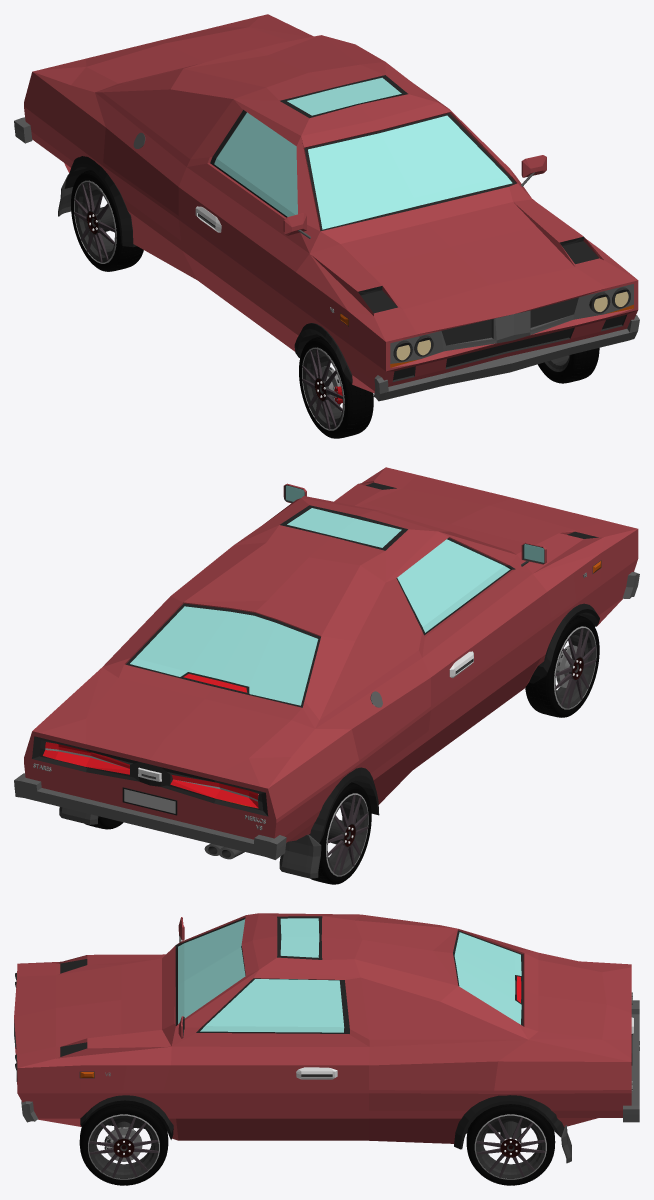
File: frigorifico-americano-hisense.glb
3 renders of one model, top to bottom at view 1: azimuth 30°, elevation 25°; view 2: azimuth 150°, elevation 25°; view 3: azimuth 270°, elevation 25°, orthographic. The views are drawn at different scales.
Parts seen in each view (by area): view 1: StaresMerkos; view 2: StaresMerkos; view 3: StaresMerkos.
Boxes of the visible parts, box(x1,y1,x2,y2) form: StaresMerkos: box(14, 14, 639, 438); StaresMerkos: box(14, 467, 639, 884); StaresMerkos: box(14, 913, 639, 1185).
Size of the model in its own units: 4.21 by 3.59 by 10.23.
